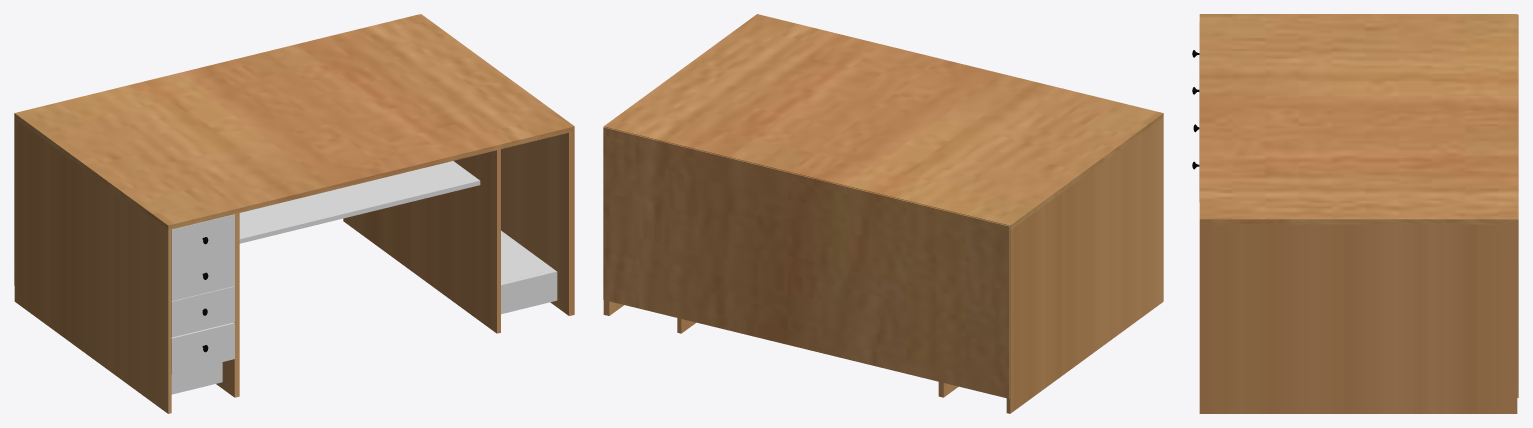
The model's file is Desk.fbx.
3 renders of one model, left to right at view 1: azimuth 30°, elevation 25°; view 2: azimuth 150°, elevation 25°; view 3: azimuth 270°, elevation 25°, orthographic. The views are drawn at different scales.
Visible parts, largest first — view 1: pCube5, pCube10, pCube9, pCube11, pCube13, pCube12, pasted__pCube8, pasted__pCube7, pCube8; view 2: pCube5, pCube6; view 3: pCube5, pCube6.
Part boxes in pixels (box(x1,y1,x2,y2)): pCube5: box(14, 14, 574, 413); pCube10: box(239, 161, 480, 243); pCube9: box(171, 322, 234, 374); pCube11: box(171, 286, 234, 337); pCube13: box(171, 214, 234, 265); pCube12: box(171, 250, 234, 301); pasted__pCube8: box(501, 269, 557, 314); pasted__pCube7: box(501, 230, 553, 282); pCube8: box(171, 362, 222, 394); pCube5: box(603, 14, 1163, 413); pCube6: box(603, 127, 1009, 398); pCube5: box(1199, 14, 1517, 413); pCube6: box(1517, 14, 1518, 397).
Size of the model in its own units: 15.52 by 6.87 by 10.42.
